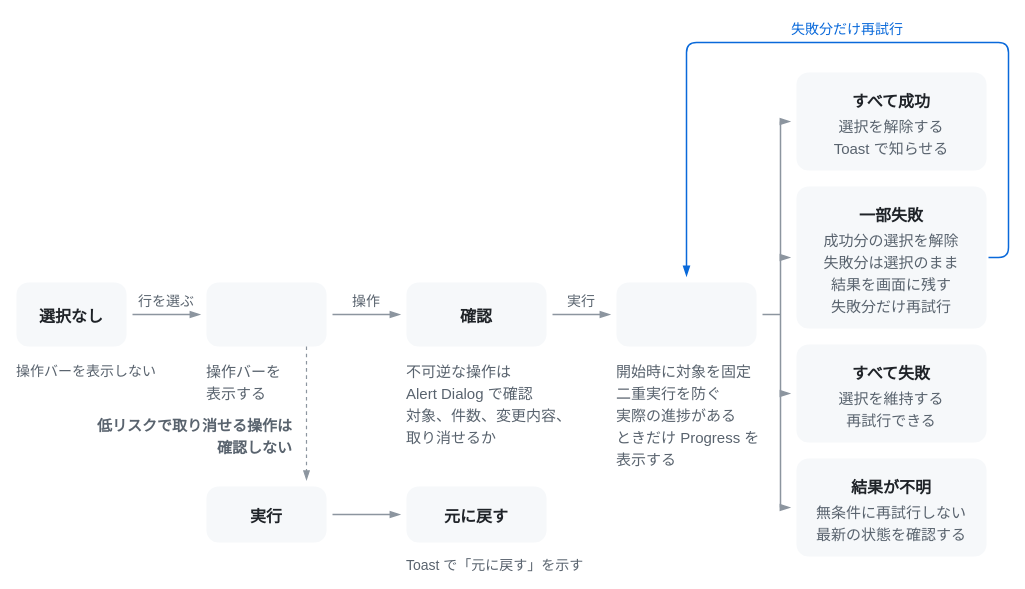
Image size: 1025x589. Some labels were removed from this diagram. The centre of each missing label's shape, as x and y in pixels:
"実行中" belongs at pixel 686 314.
"選択中" belongs at pixel 266 314.
